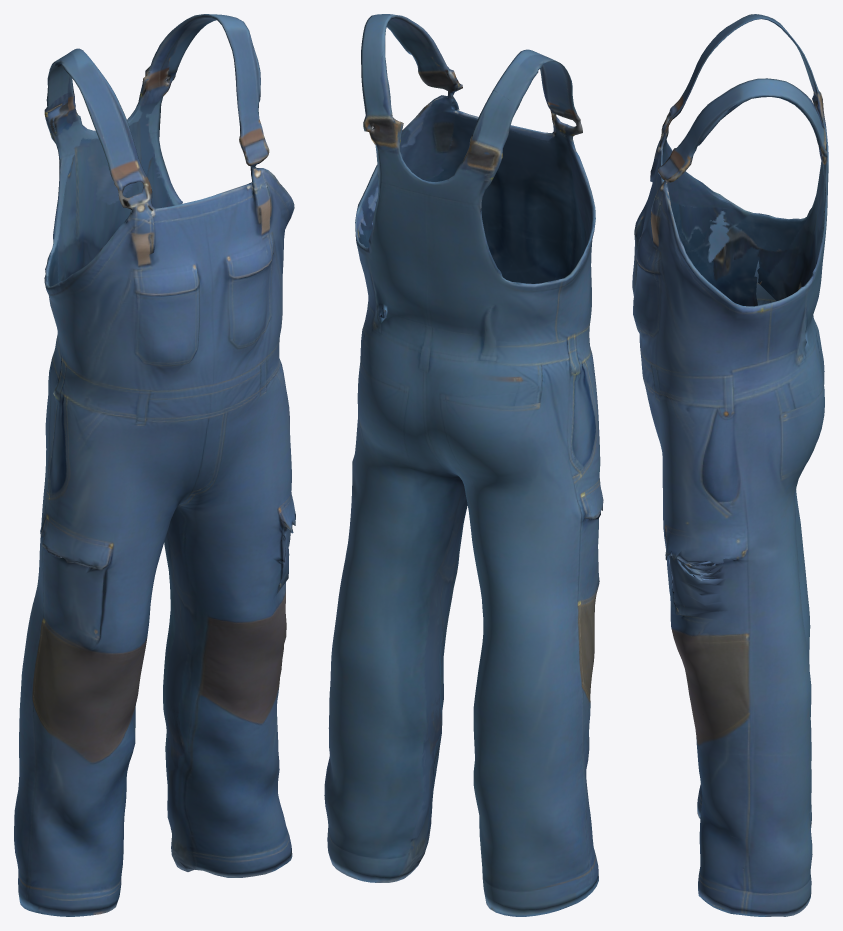
Rendered from buildingOveralls.fbx.
The picture shows the model from 3 angles, left to right: view 1: azimuth 30°, elevation 25°; view 2: azimuth 150°, elevation 25°; view 3: azimuth 270°, elevation 25°; orthographic projection. The views are drawn at different scales.
Parts seen in each view (by area): view 1: Mesh1; view 2: Mesh1; view 3: Mesh1.
Boxes of the visible parts, x1,y1,x2,y2 form: Mesh1: (14, 14, 295, 916); Mesh1: (324, 14, 603, 916); Mesh1: (632, 14, 828, 916).
Size of the model in its own units: 62.99 by 199 by 43.35.
1 material, 1 textured.
